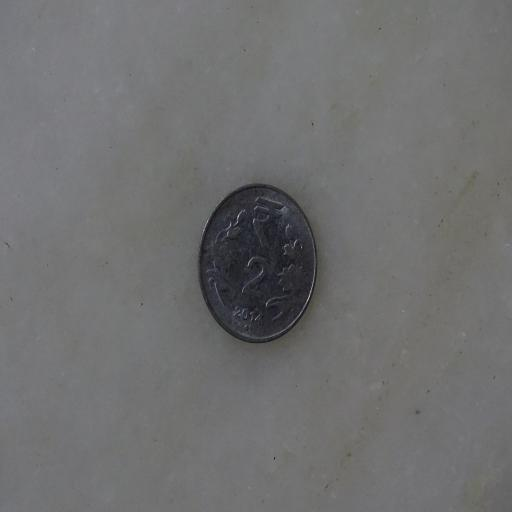rupee2: (193, 177, 322, 346)
